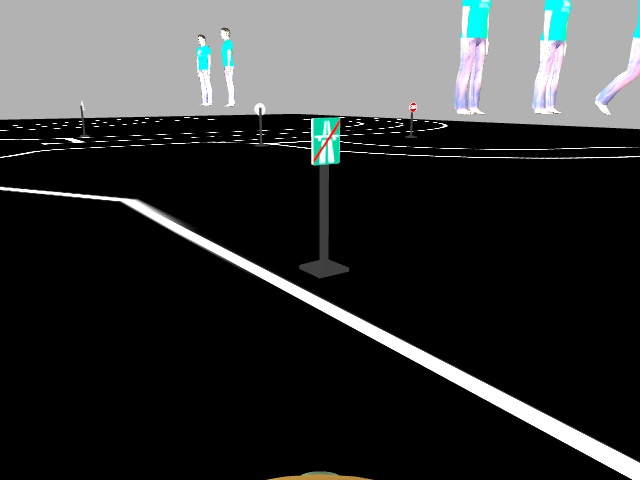HighwayExit: (309, 117, 340, 163)
